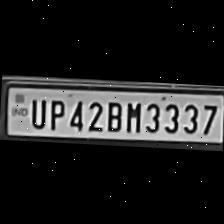2: (84, 96, 104, 130)
3: (160, 97, 180, 132), (142, 97, 160, 132), (180, 98, 198, 132)
4: (64, 95, 86, 129)
7: (198, 99, 218, 133)
B: (102, 96, 124, 132)
M: (122, 96, 142, 132)
P: (44, 94, 66, 130)
U: (26, 94, 46, 128)
